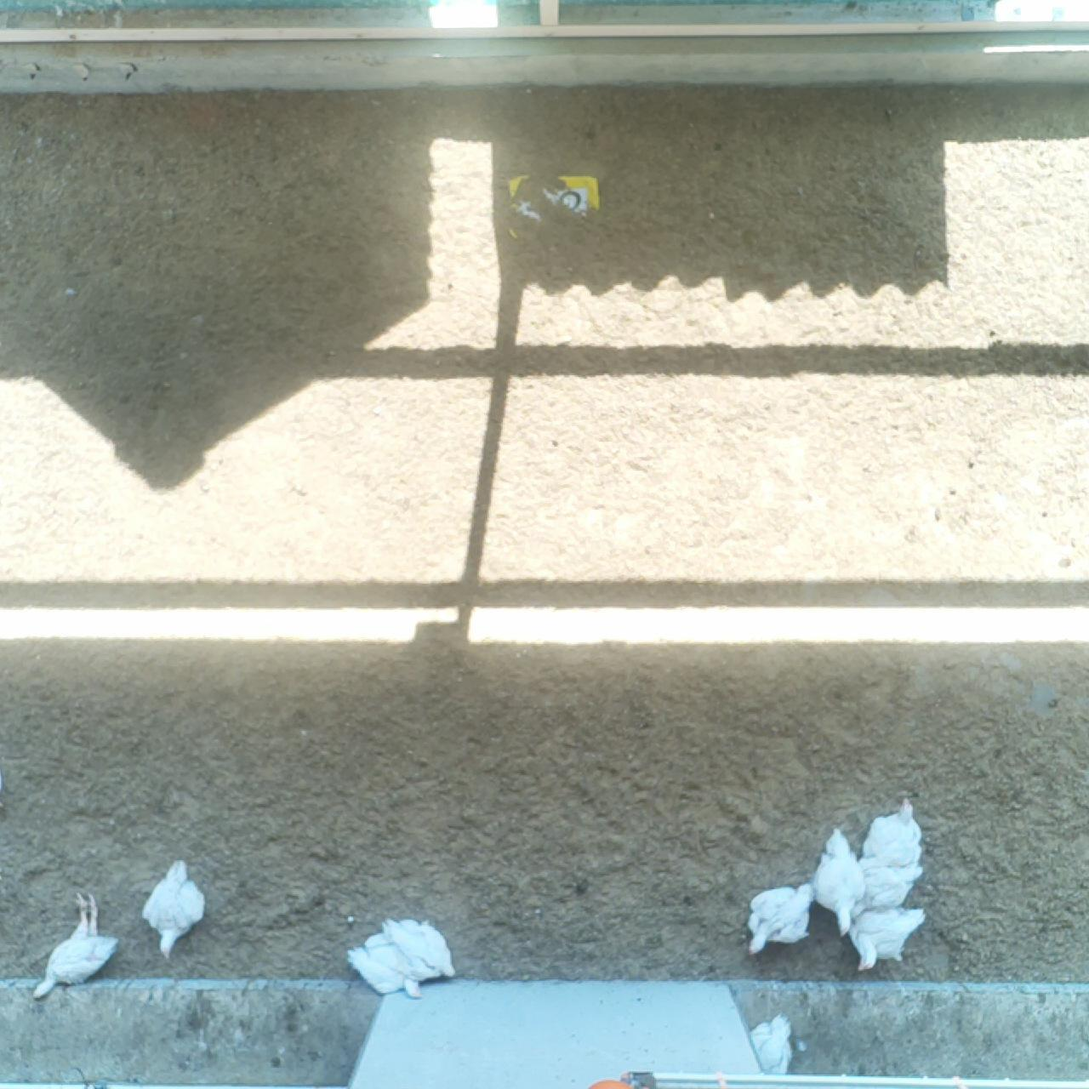chicken: (32, 891, 119, 1000), (862, 798, 925, 916), (140, 859, 208, 964), (812, 828, 865, 940), (349, 924, 425, 998), (847, 908, 927, 972), (747, 882, 815, 955), (384, 919, 460, 983), (747, 1014, 801, 1078)
